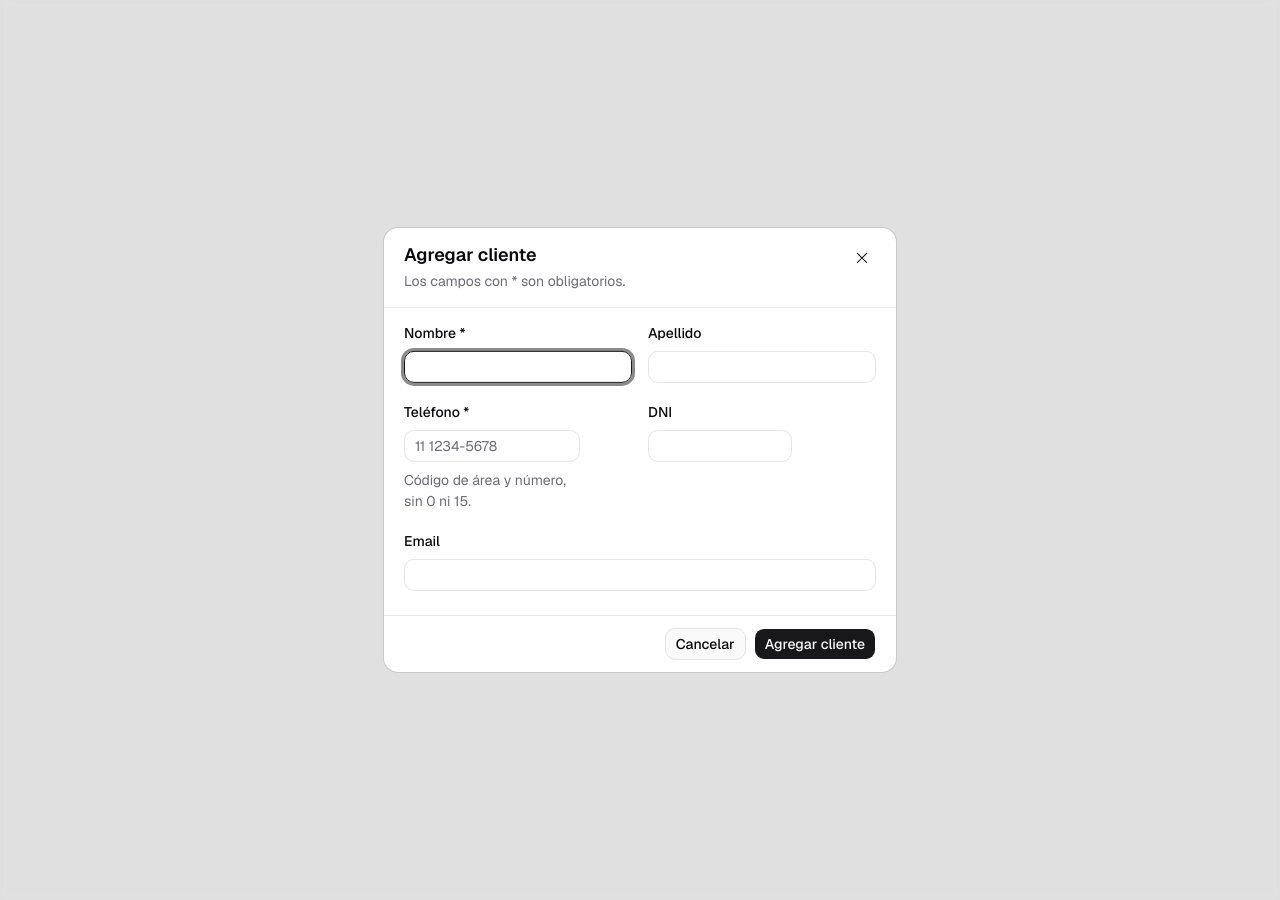
Scenario: ClientModal: create › asks for 10 digits when the phone is incomplete, keeping the hint, and focuses it
The image size is (1280, 900).
Expected: the dialog is shown, [384, 228, 896, 672]
Type "Ana" into the field labelled "Nombre *". click: (518, 367)
box: [404, 351, 632, 383]
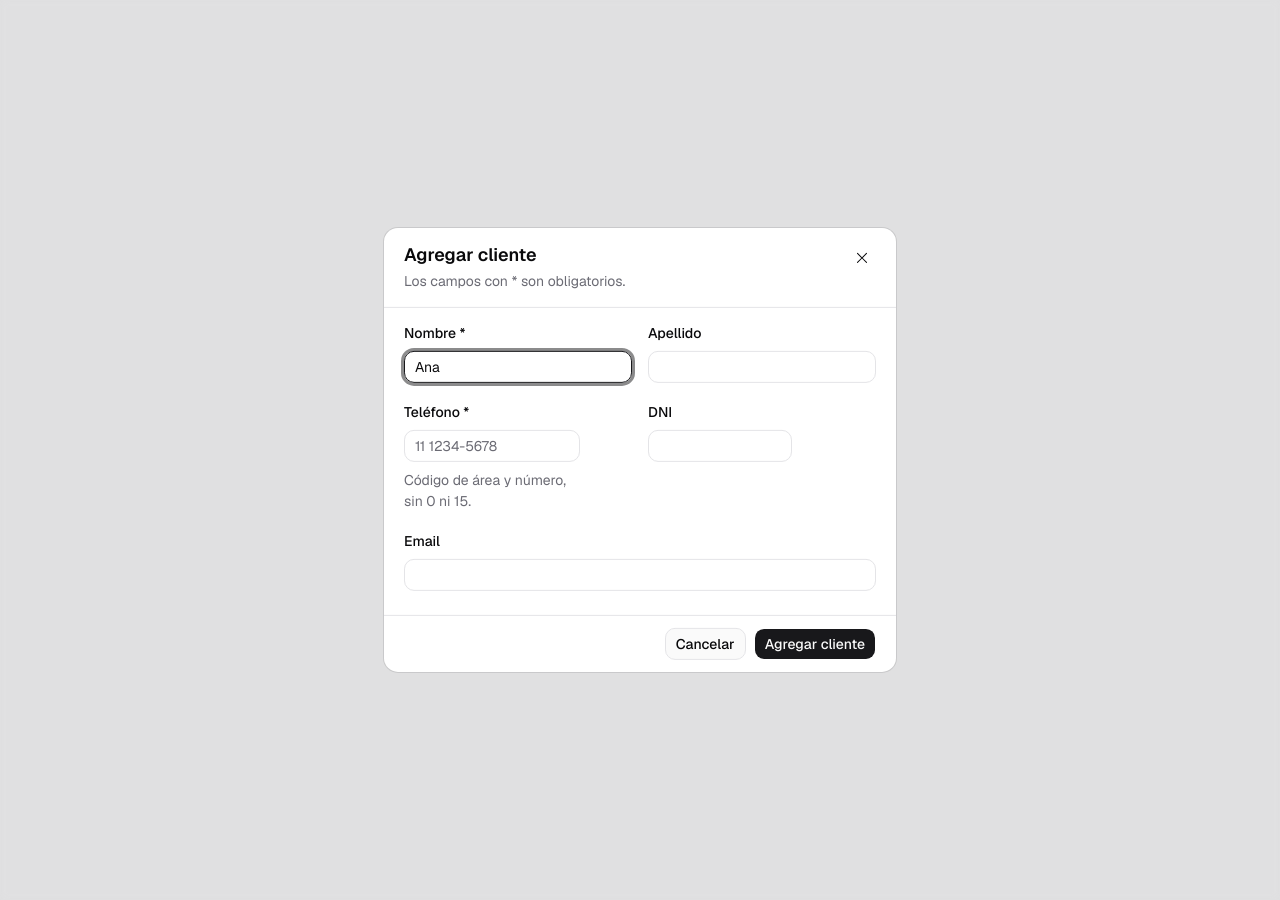
Type "11 1234" into the field labelled "Teléfono *". click: (492, 446)
box: [404, 430, 580, 462]
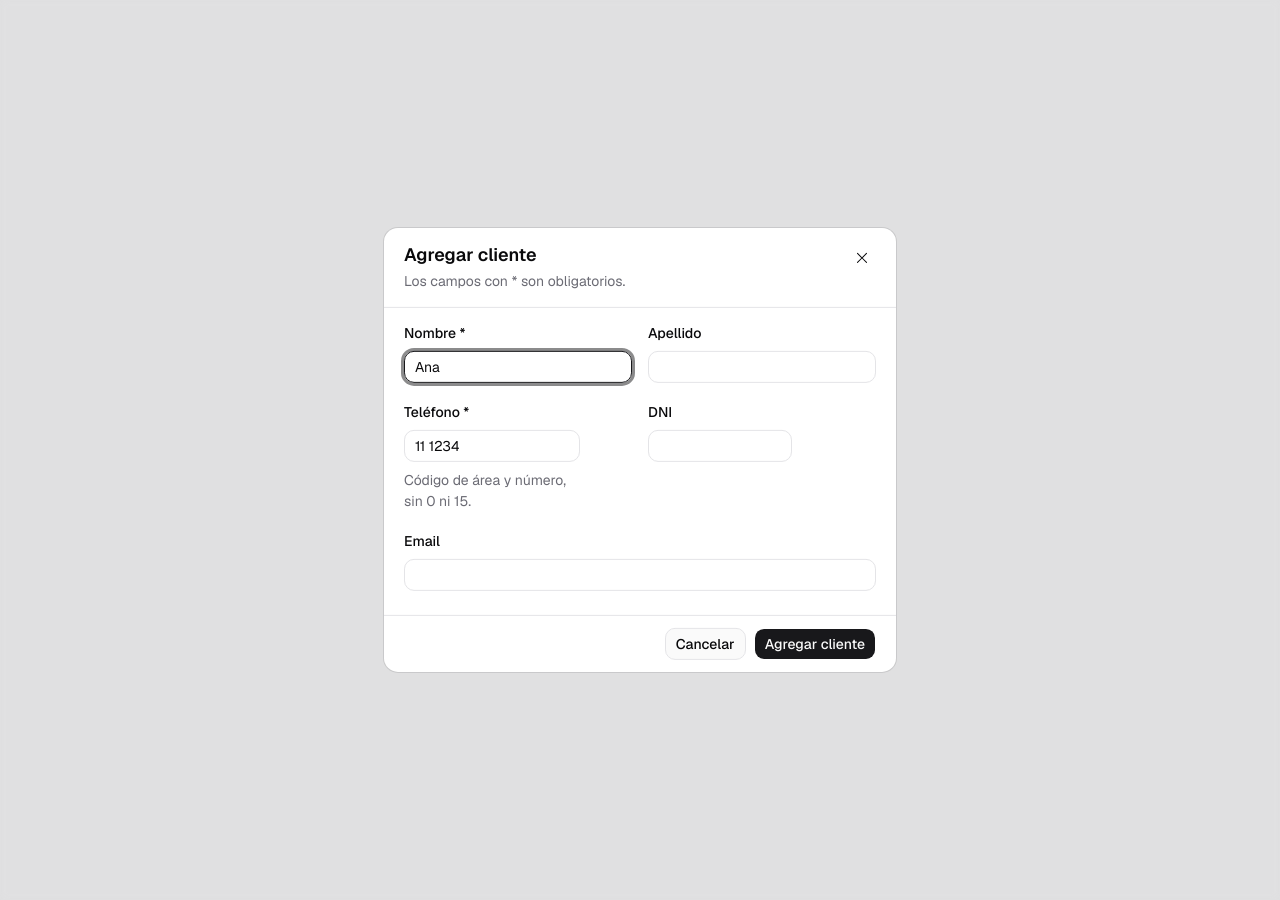
Click the button "Agregar cliente". click: (815, 644)
box: [754, 628, 876, 660]
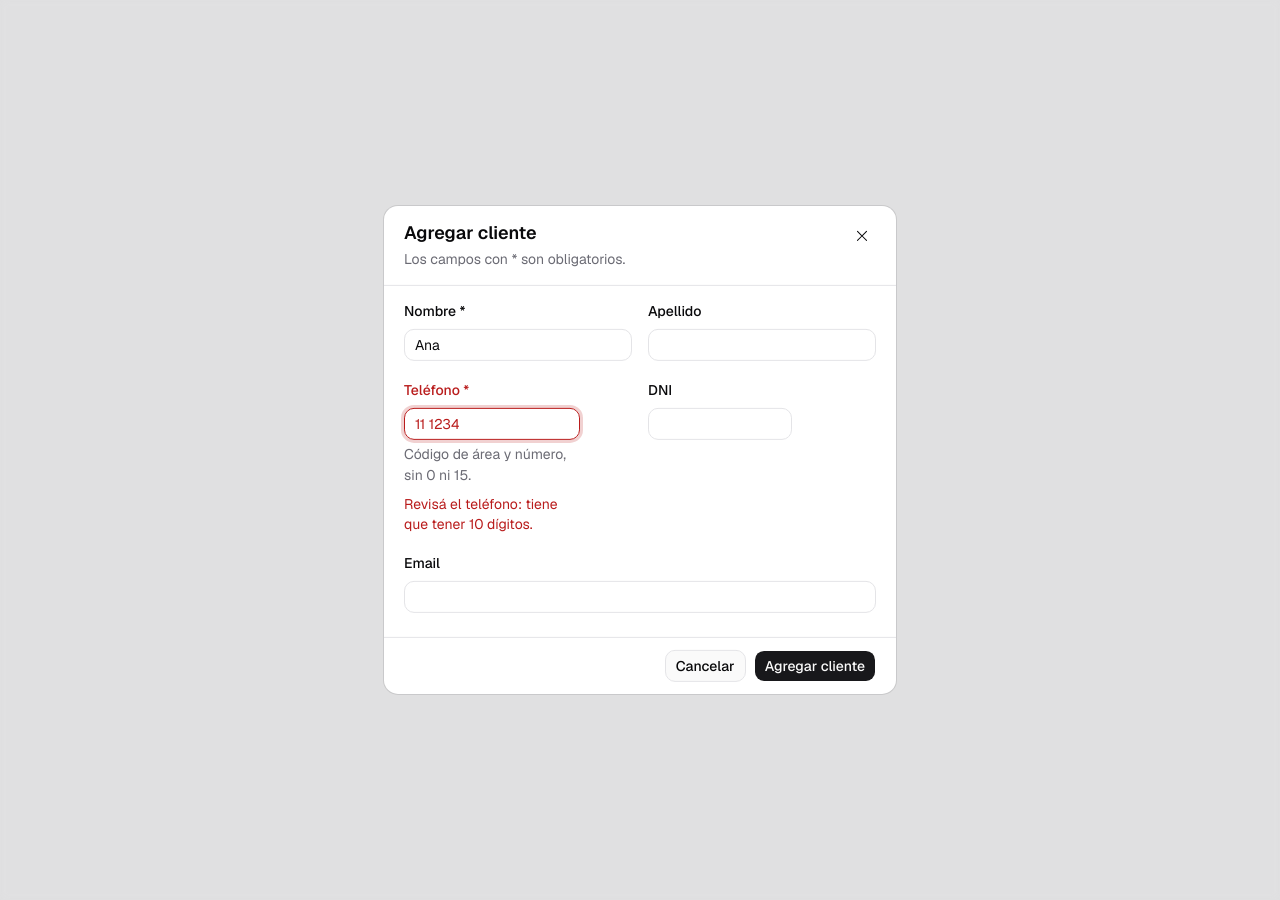
Now the text "Revisá el teléfono: tiene que tener 10 dígitos." is shown, box [404, 494, 580, 534]
